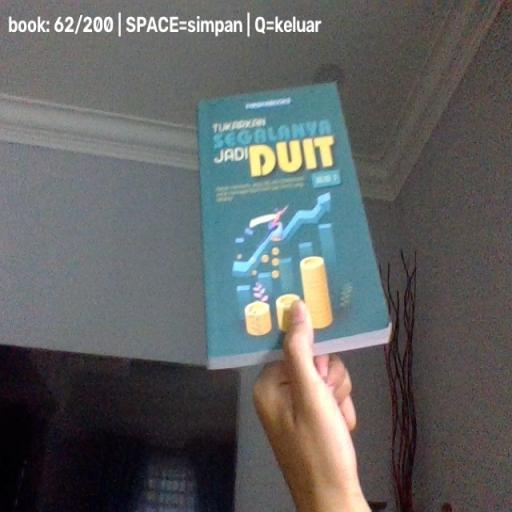Book: (195, 82, 394, 371)
